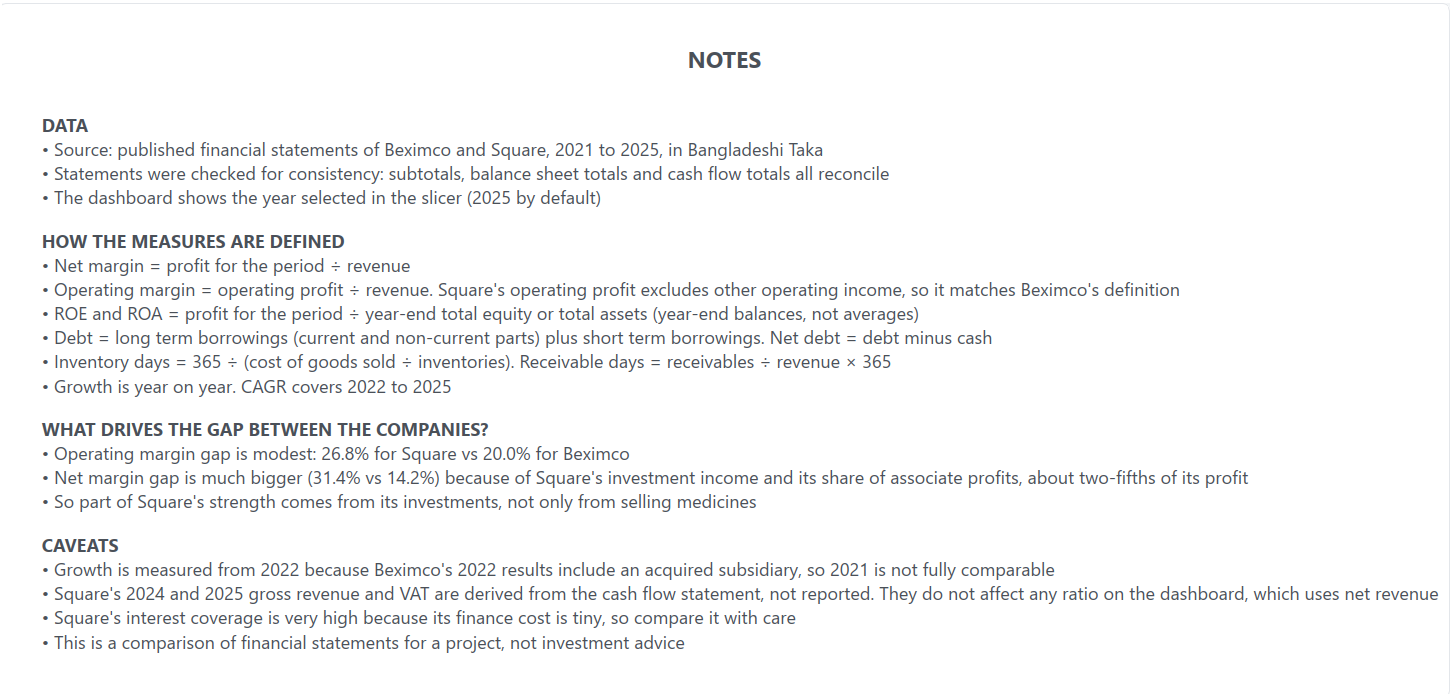

What the dashboard file says about the page in this screenshot:
{"tool":"powerbi","page":{"name":"Notes","canvas":[1500,720],"ordinal":5},"visuals":[{"type":"textbox","box":[-4,0,1504,720],"z":0}]}

Visuals, with their boxes in screenshot pixels (x1, y1, x2, y2), scaled from the page's 1500x720 canvas onto the 1453x694 screenshot:
textbox: box(0, 0, 1452, 693)
